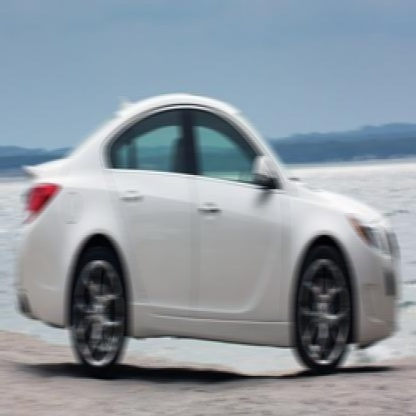Vehicle: (18, 98, 400, 378)
